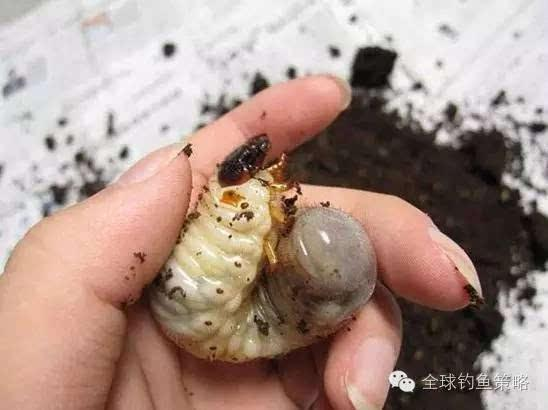grub: (188, 133, 379, 378)
